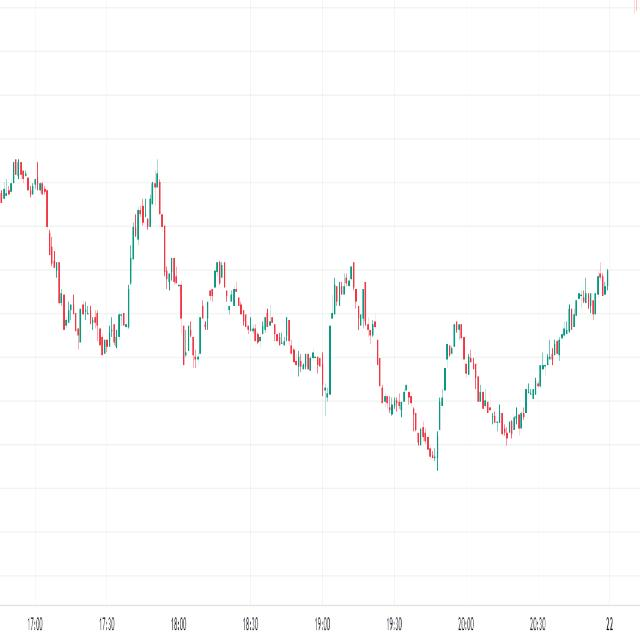Double-Bottom: (176, 300, 204, 379)
Rounding-Bottom: (41, 226, 144, 366)
